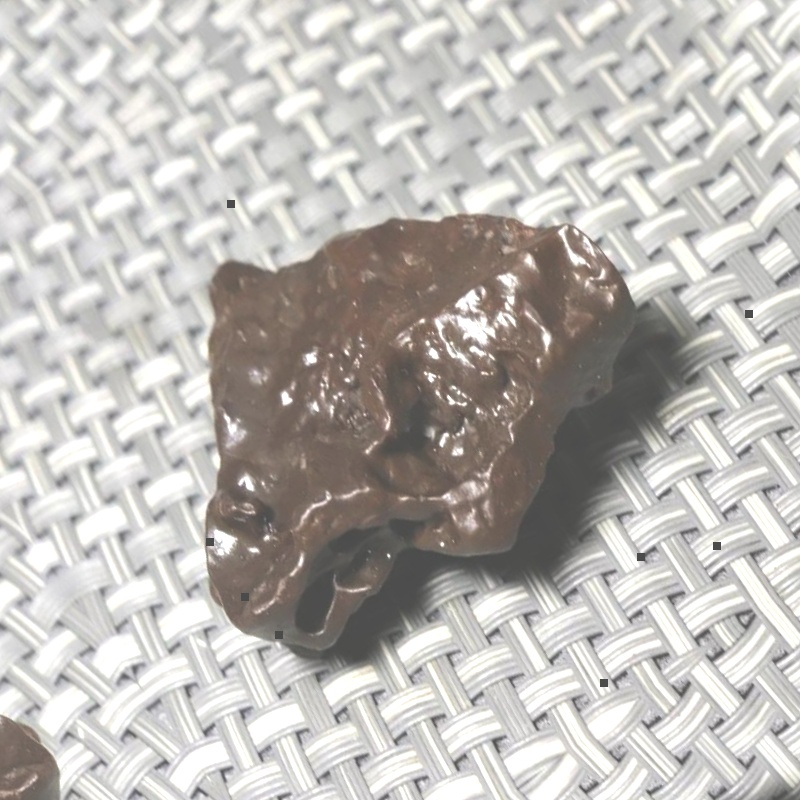halobolite: (41, 62, 732, 727)
